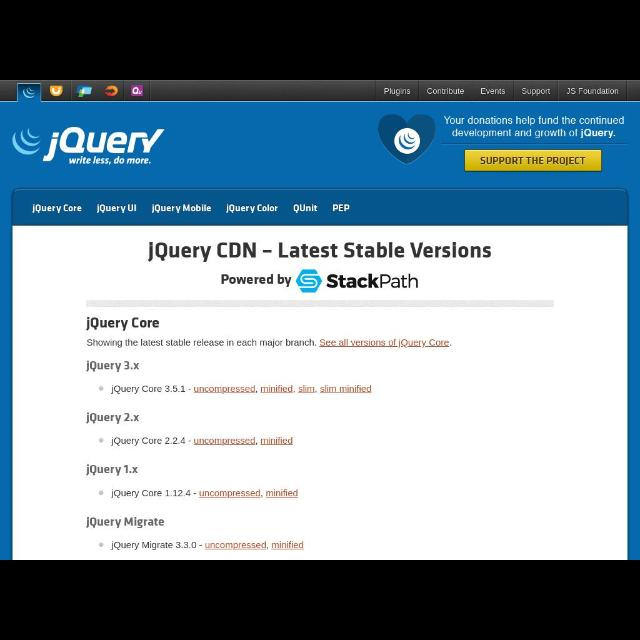icon: (98, 436, 104, 444), (98, 385, 104, 391), (98, 490, 104, 496), (98, 542, 104, 548)
image: (11, 121, 167, 171), (374, 112, 438, 166), (296, 269, 324, 293), (48, 83, 64, 97), (76, 84, 92, 98), (102, 84, 118, 98), (20, 88, 36, 100), (130, 85, 144, 97)
link: (318, 338, 450, 348), (192, 438, 255, 446), (200, 489, 260, 496), (320, 385, 370, 393), (192, 386, 255, 392), (205, 542, 268, 548), (266, 489, 300, 498), (260, 437, 294, 445), (273, 542, 305, 550), (260, 386, 294, 392), (298, 385, 314, 393)
multitab: (15, 192, 377, 224), (375, 82, 627, 100)
text: (148, 240, 494, 266), (442, 115, 626, 142), (85, 336, 453, 349), (110, 382, 374, 396), (109, 434, 294, 448), (110, 486, 300, 499), (328, 271, 420, 295), (110, 540, 306, 550), (220, 272, 294, 290), (86, 316, 162, 332), (84, 460, 138, 482), (85, 516, 165, 530), (86, 360, 140, 374), (86, 412, 140, 426), (150, 203, 212, 214), (30, 202, 82, 215), (564, 87, 620, 99), (226, 203, 280, 214), (95, 203, 139, 214), (426, 86, 464, 95), (293, 202, 319, 215), (521, 85, 551, 96), (481, 85, 507, 97), (332, 200, 352, 213), (384, 87, 411, 95)
textbutton: (464, 149, 600, 171)
